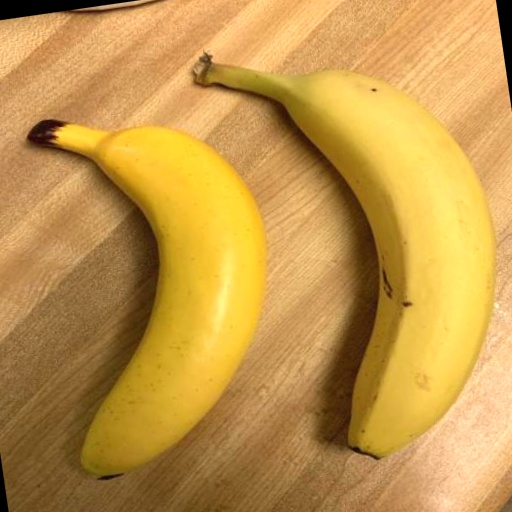fruit: (195, 56, 495, 457), (28, 120, 265, 476)
